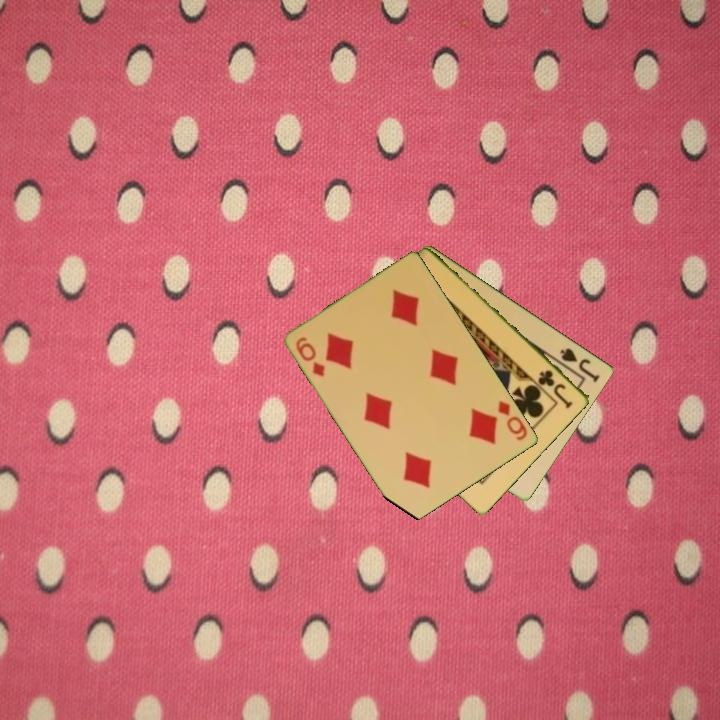6d: (495, 397, 531, 444), (292, 333, 328, 380)
Jc: (535, 366, 576, 411)
Js: (557, 344, 603, 385)
